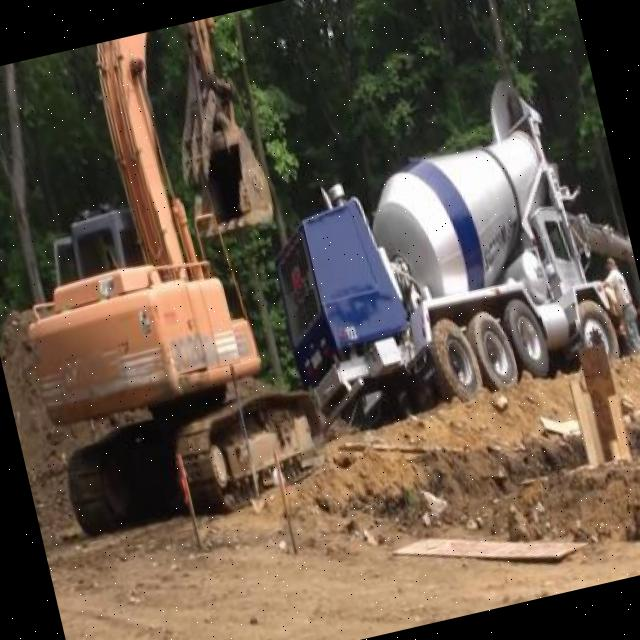Excavator: (0, 12, 339, 545)
